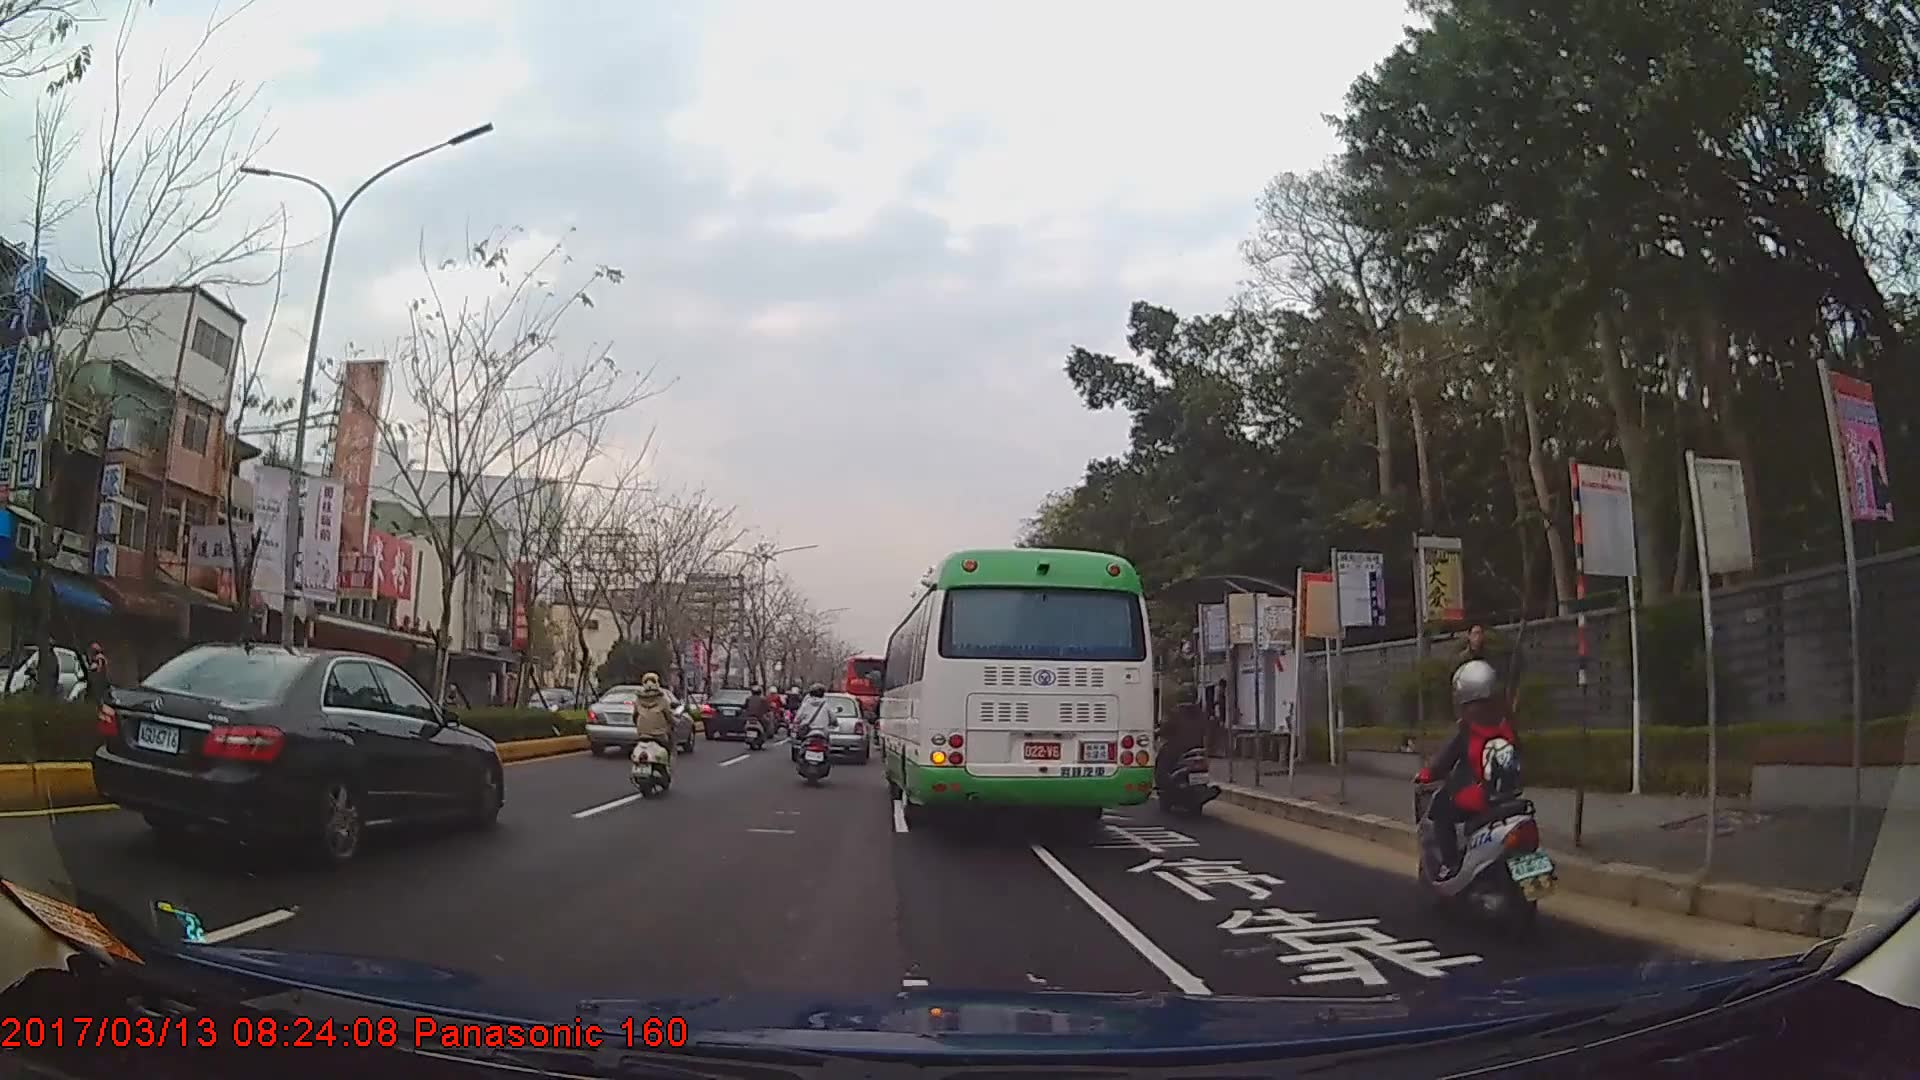pedestrian: (1453, 618, 1511, 793)
rider: (1406, 657, 1554, 934), (1156, 680, 1222, 814), (629, 675, 677, 796), (795, 684, 840, 779), (69, 643, 118, 702), (744, 683, 774, 747), (787, 684, 807, 724)
vehicle: (90, 638, 501, 868), (876, 546, 1156, 829), (586, 683, 695, 754), (789, 689, 870, 764), (703, 684, 772, 740)
